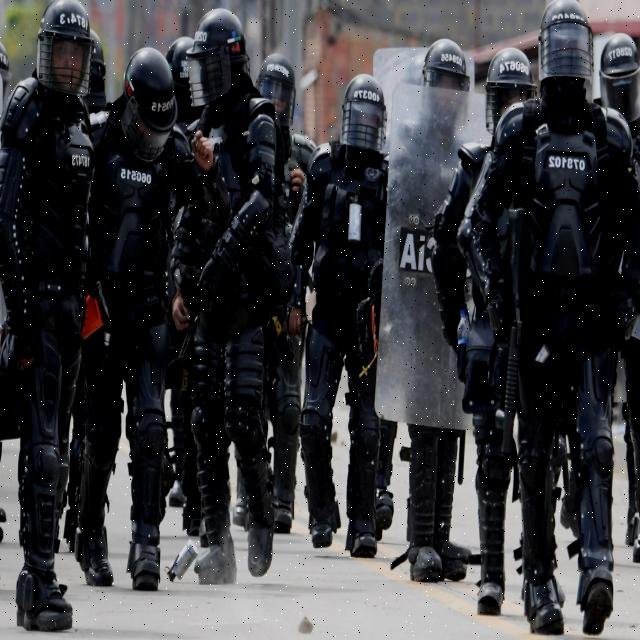police: (435, 0, 640, 640), (74, 30, 220, 617), (176, 0, 300, 583), (418, 24, 532, 626), (0, 0, 103, 640), (287, 46, 404, 606), (246, 8, 328, 517), (575, 6, 640, 584)
